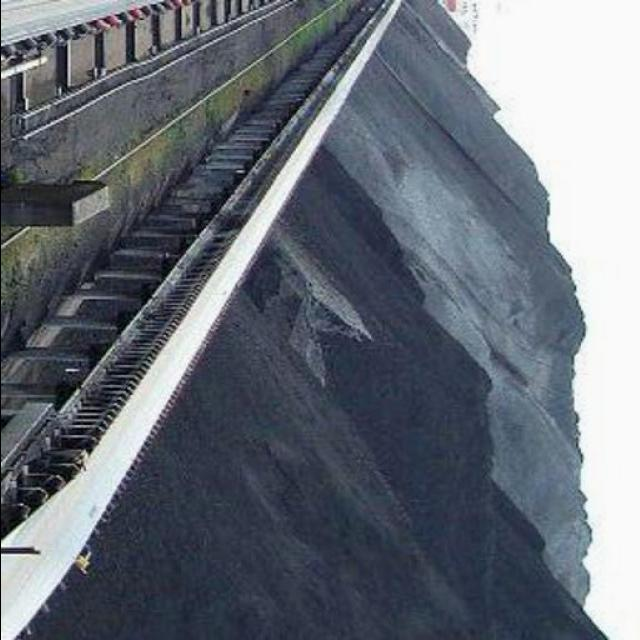conveyor: (0, 0, 399, 640)
